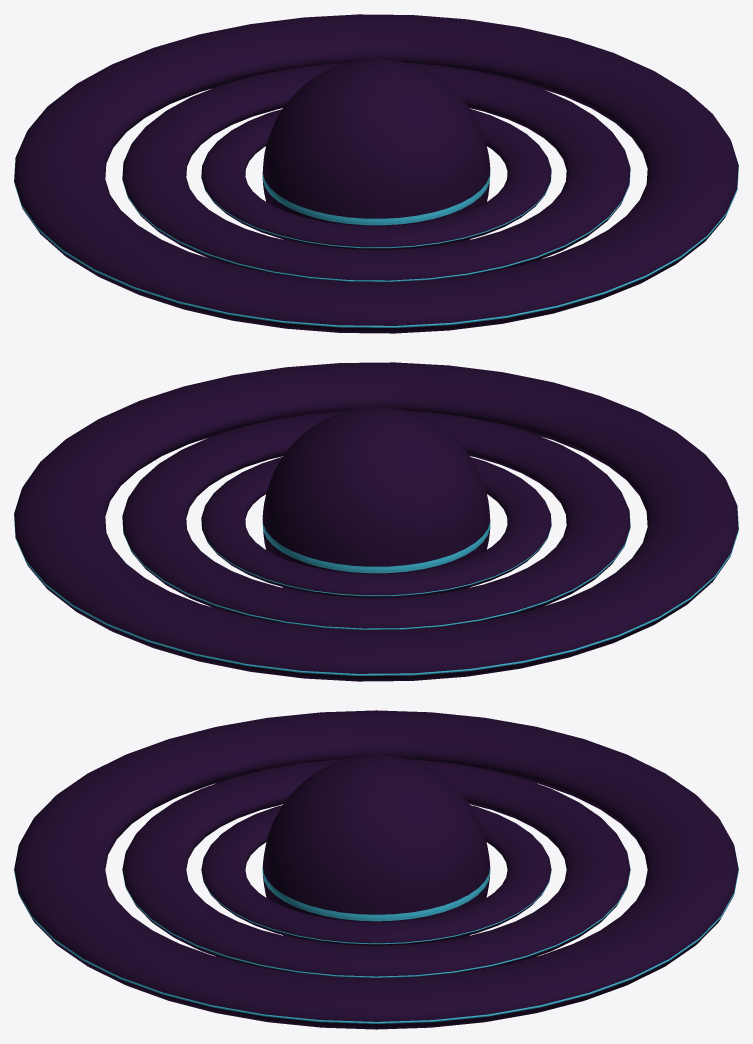
The model's file is trou_noir_export_2.fbx.
The picture shows the model from 3 angles, top to bottom: view 1: azimuth 30°, elevation 25°; view 2: azimuth 150°, elevation 25°; view 3: azimuth 270°, elevation 25°; orthographic projection.
Parts seen in each view (by area): view 1: pTorus5, pTorus4, pSphere1, pTorus1; view 2: pTorus5, pTorus4, pSphere1, pTorus1; view 3: pTorus5, pTorus4, pSphere1, pTorus1.
Part boxes in pixels (<box>): pTorus5: <box>14,14,738,333</box>; pTorus4: <box>122,62,630,281</box>; pSphere1: <box>262,59,490,242</box>; pTorus1: <box>201,108,551,249</box>; pTorus5: <box>14,362,738,681</box>; pTorus4: <box>122,410,630,629</box>; pSphere1: <box>262,407,490,590</box>; pTorus1: <box>201,456,551,597</box>; pTorus5: <box>14,710,738,1029</box>; pTorus4: <box>122,759,630,977</box>; pSphere1: <box>262,755,490,937</box>; pTorus1: <box>201,805,551,945</box>.
Bounding box in the file's own units: 6.28 × 2 × 6.28.
